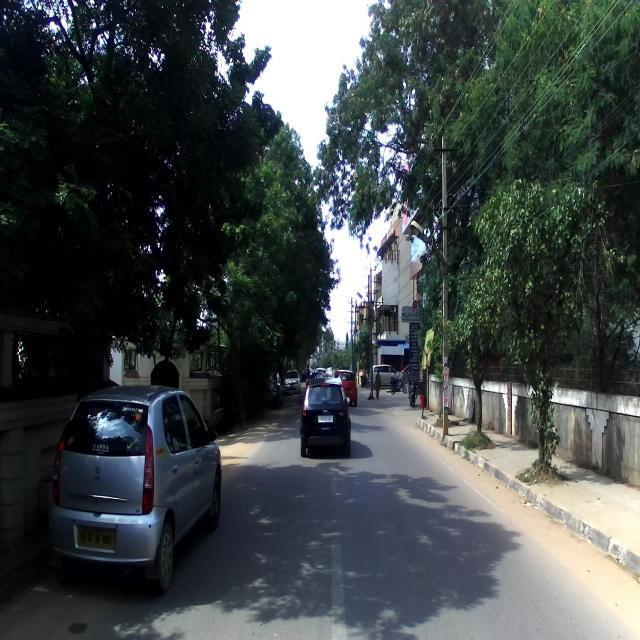car: (50, 383, 222, 593), (299, 372, 353, 461)
